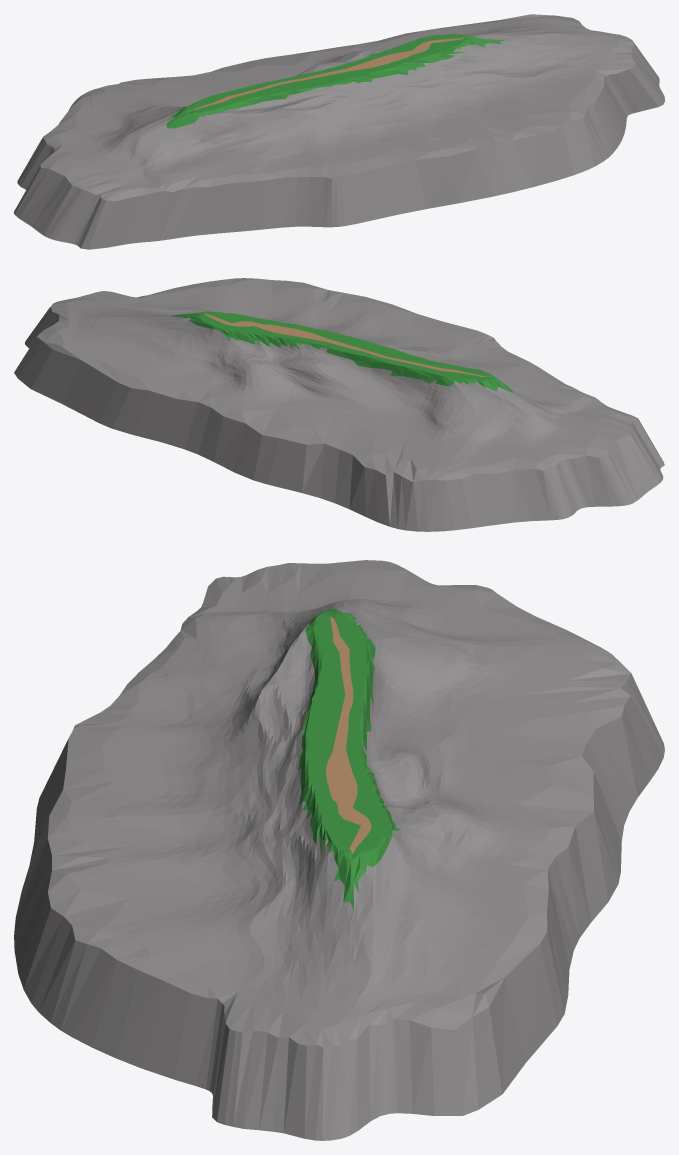
Rendered from island.fbx.
3 renders of one model, top to bottom at view 1: azimuth 30°, elevation 25°; view 2: azimuth 150°, elevation 25°; view 3: azimuth 270°, elevation 25°, orthographic. The views are drawn at different scales.
Visible parts, largest first — view 1: dirt, stone, Landscape_3, Landscape_4, Landscape_2; view 2: dirt, stone, Landscape_3, Landscape_4, Landscape_2; view 3: dirt, stone, Landscape_3, Landscape_4, Landscape_2.
Part boxes in pixels (bbox=[...]): dirt: bbox=[56, 17, 619, 190]; stone: bbox=[14, 14, 664, 249]; Landscape_3: bbox=[186, 34, 471, 114]; Landscape_4: bbox=[166, 34, 505, 128]; Landscape_2: bbox=[192, 38, 464, 110]; dirt: bbox=[57, 281, 618, 473]; stone: bbox=[14, 278, 664, 531]; Landscape_3: bbox=[196, 311, 495, 379]; Landscape_4: bbox=[161, 311, 513, 392]; Landscape_2: bbox=[203, 314, 486, 377]; dirt: bbox=[54, 571, 601, 1029]; stone: bbox=[14, 560, 664, 1140]; Landscape_3: bbox=[305, 611, 388, 861]; Landscape_4: bbox=[297, 608, 400, 909]; Landscape_2: bbox=[326, 616, 371, 853].
Size of the model in its own units: 4408 by 548 by 2284.
